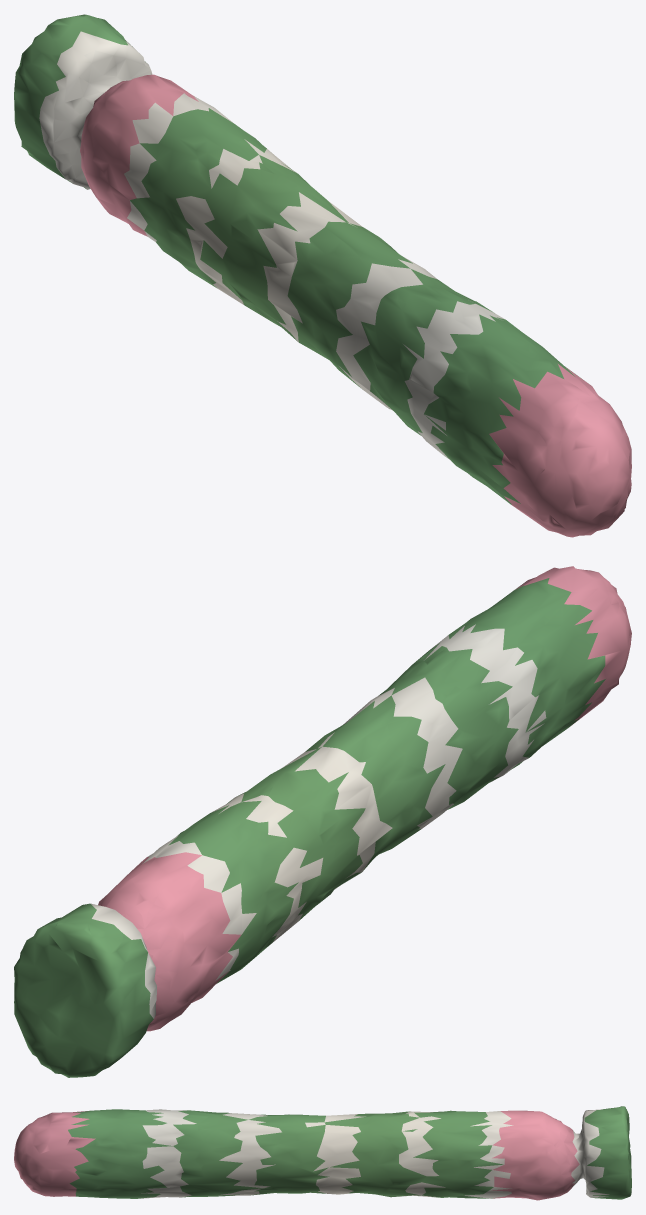
Rendered from den_sock_c_lod1.glb.
The picture shows the model from 3 angles, top to bottom: view 1: azimuth 30°, elevation 25°; view 2: azimuth 150°, elevation 25°; view 3: azimuth 270°, elevation 25°; orthographic projection. The views are drawn at different scales.
Visible parts, largest first — view 1: den_sock_c.001; view 2: den_sock_c.001; view 3: den_sock_c.001.
Part boxes in pixels (box(x1,y1,x2,y2)): den_sock_c.001: box(14, 14, 631, 537); den_sock_c.001: box(14, 566, 631, 1077); den_sock_c.001: box(14, 1106, 631, 1200).
Bounding box in the file's own units: 2.84 × 3.63 × 23.84.
